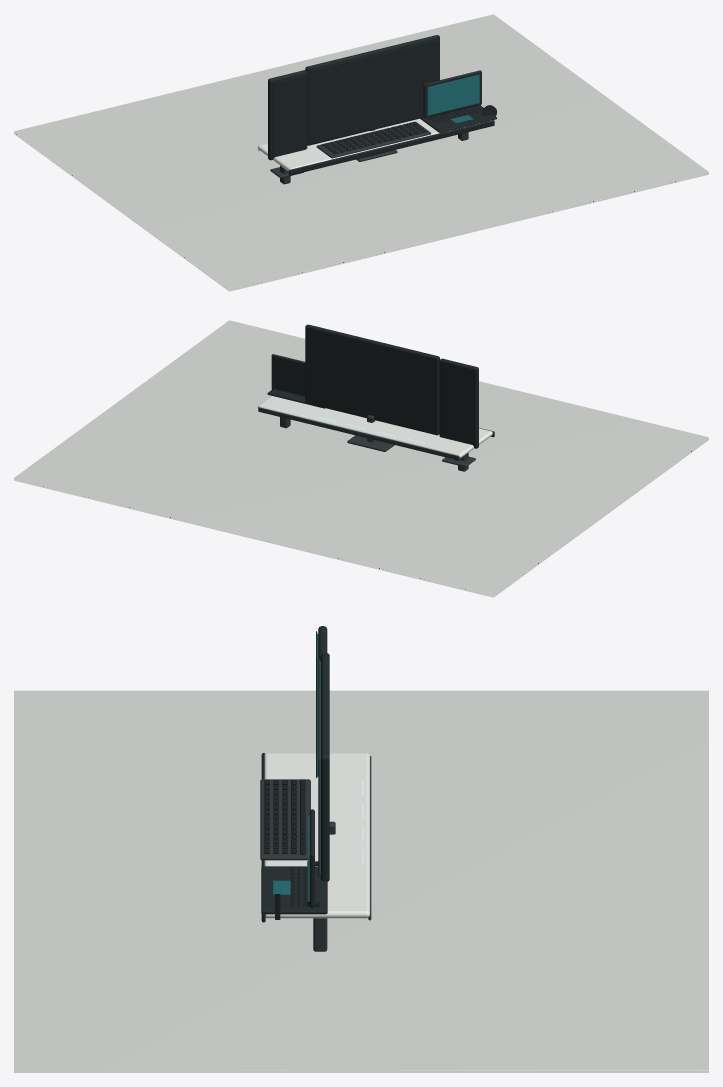
File: kraitos-open-desk.glb
3 renders of one model, top to bottom at view 1: azimuth 30°, elevation 25°; view 2: azimuth 150°, elevation 25°; view 3: azimuth 270°, elevation 25°, orthographic. The views are drawn at different scales.
Parts seen in each view (by area): view 1: infinite_white_floor, main_monitor_inner_bezel, vertical_monitor_inner_bezel, laptop_screen_recess, open_desk_slab, desk_front_edge_graphite, main_monitor_outer_frame, keyboard_deck, laptop_base, vertical_monitor_outer_frame, laptop_screen_frame; view 2: infinite_white_floor, main_monitor_outer_frame, open_desk_slab, vertical_monitor_outer_frame, laptop_screen_frame, desk_rear_shadow_edge; view 3: infinite_white_floor, open_desk_slab, laptop_base, main_monitor_outer_frame, keyboard_deck.
Boxes of the visible parts, x1,y1,x2,y2 form: infinite_white_floor: (14, 14, 708, 291); main_monitor_inner_bezel: (310, 39, 438, 143); vertical_monitor_inner_bezel: (272, 74, 306, 158); laptop_screen_recess: (427, 74, 479, 115); open_desk_slab: (257, 118, 491, 171); desk_front_edge_graphite: (288, 120, 494, 175); main_monitor_outer_frame: (305, 35, 439, 145); keyboard_deck: (316, 121, 431, 158); laptop_base: (420, 105, 496, 132); vertical_monitor_outer_frame: (268, 70, 307, 160); laptop_screen_frame: (423, 70, 481, 117); infinite_white_floor: (14, 320, 708, 597); main_monitor_outer_frame: (305, 324, 439, 435); open_desk_slab: (257, 396, 492, 458); vertical_monitor_outer_frame: (439, 358, 478, 448); laptop_screen_frame: (271, 354, 305, 395); desk_rear_shadow_edge: (258, 407, 459, 460); infinite_white_floor: (14, 690, 708, 1072); open_desk_slab: (264, 753, 369, 918); laptop_base: (261, 866, 327, 914); main_monitor_outer_frame: (320, 653, 329, 881); keyboard_deck: (260, 779, 310, 860).
Bounding box in the file's own units: 18 × 3.99 × 14.
